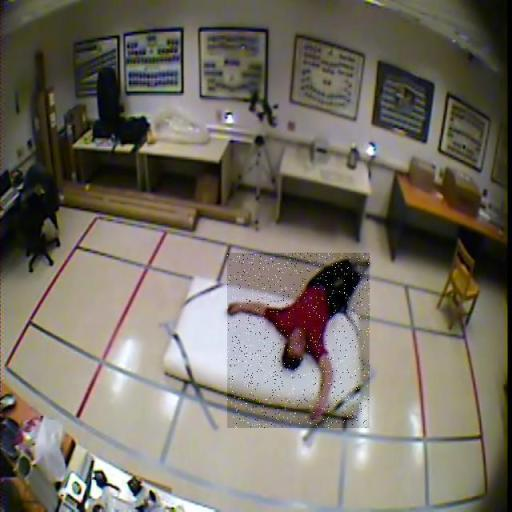Fall: (227, 253, 370, 428)
